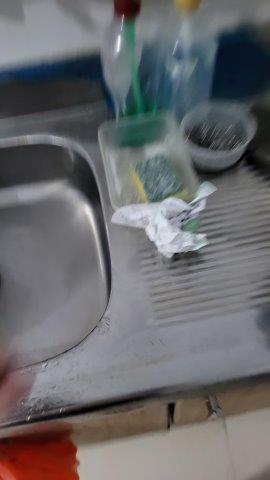kertas: (108, 180, 215, 262)
